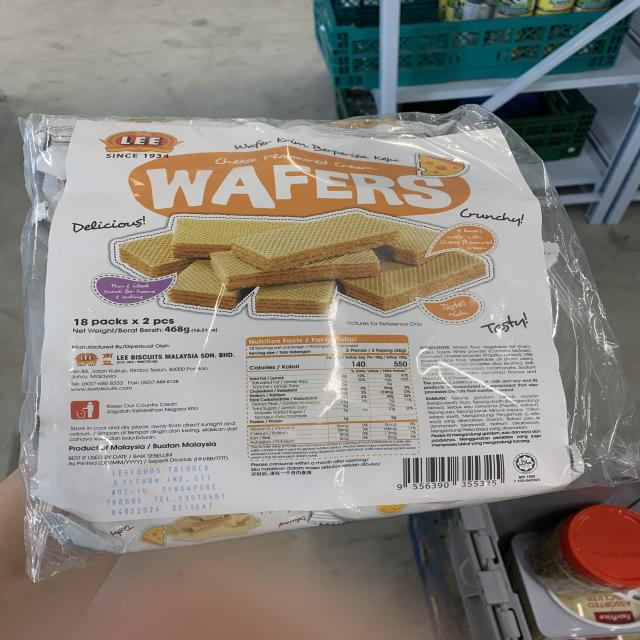object_name: (34, 123, 581, 495)
